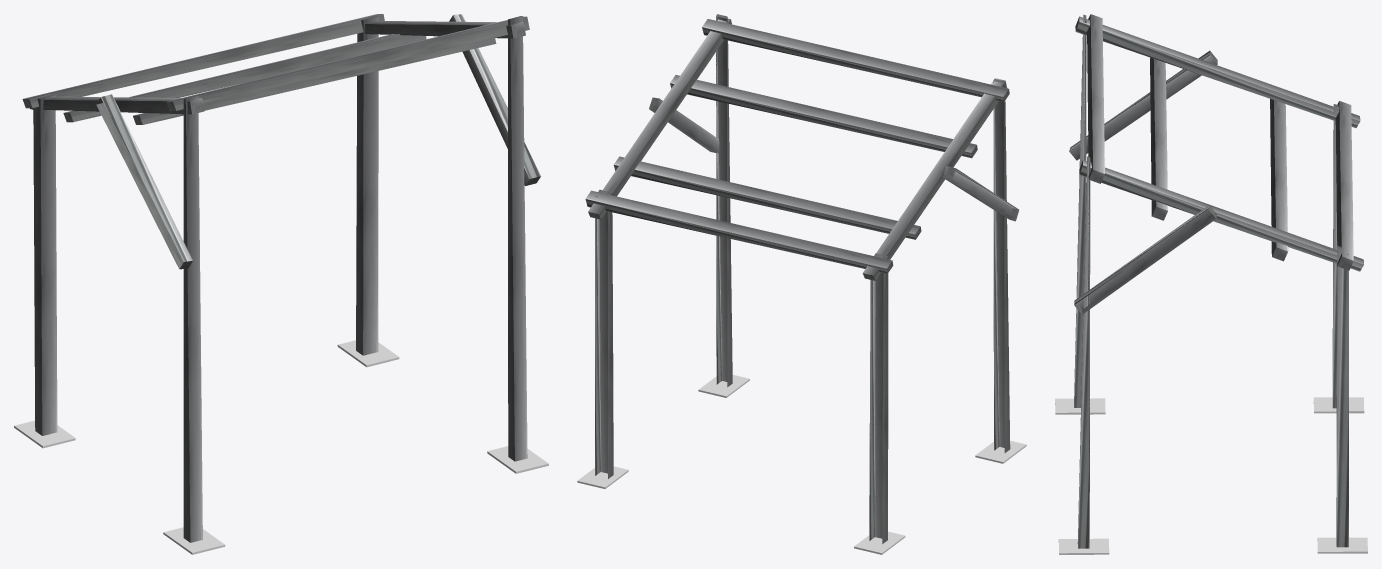
File: six panel  with 4 legs structure.fbx
3 views of the same model, side by side, from view 1: azimuth 30°, elevation 25°; view 2: azimuth 150°, elevation 25°; view 3: azimuth 270°, elevation 25° (orthographic). The views are drawn at different scales.
Parts seen in each view (by area): view 1: Cube.015, Cube.005, Cube.027, Cube.018, Cube.009, Cube.001, Cube.006, Cube.008, Cube.004, Cube.007, Cube.003, Cube.002 (+4 smaller); view 2: Cube.027, Cube.015, Cube.001, Cube.009, Cube.018, Cube.006, Cube.004, Cube.005, Cube.002, Cube.003, Cube.008, Cube.007 (+4 smaller); view 3: Cube.003, Cube.002, Cube.018, Cube.005, Cube.007, Cube.009, Cube.001, Cube.015, Cube.006, Cube.004, Cube.008, Cube.027 (+4 smaller).
Part boxes in pixels (left/top/right/bottom): Cube.015: left=183, top=96, right=202, bottom=542; Cube.005: left=508, top=16, right=527, bottom=461; Cube.027: left=33, top=95, right=57, bottom=435; Cube.018: left=356, top=16, right=378, bottom=355; Cube.009: left=166, top=16, right=529, bottom=110; Cube.001: left=22, top=14, right=384, bottom=108; Cube.006: left=63, top=34, right=426, bottom=122; Cube.008: left=96, top=94, right=192, bottom=269; Cube.004: left=133, top=38, right=496, bottom=124; Cube.007: left=449, top=14, right=540, bottom=185; Cube.003: left=30, top=96, right=204, bottom=114; Cube.002: left=364, top=21, right=525, bottom=38; Cube.027: left=869, top=253, right=888, bottom=543; Cube.015: left=993, top=79, right=1010, bottom=452; Cube.001: left=585, top=190, right=893, bottom=273; Cube.009: left=702, top=19, right=1009, bottom=102; Cube.018: left=595, top=189, right=613, bottom=478; Cube.006: left=613, top=156, right=921, bottom=239; Cube.004: left=670, top=75, right=977, bottom=158; Cube.005: left=716, top=14, right=732, bottom=387; Cube.002: left=588, top=18, right=731, bottom=219; Cube.003: left=862, top=78, right=1006, bottom=280; Cube.008: left=943, top=166, right=1019, bottom=221; Cube.007: left=649, top=97, right=719, bottom=153; Cube.003: left=1075, top=16, right=1360, bottom=127; Cube.002: left=1079, top=160, right=1363, bottom=271; Cube.018: left=1336, top=246, right=1348, bottom=547; Cube.005: left=1077, top=156, right=1090, bottom=548; Cube.007: left=1074, top=205, right=1216, bottom=314; Cube.009: left=1087, top=14, right=1104, bottom=183; Cube.001: left=1335, top=101, right=1353, bottom=270; Cube.015: left=1074, top=14, right=1086, bottom=407; Cube.006: left=1270, top=99, right=1288, bottom=261; Cube.004: left=1150, top=57, right=1167, bottom=220; Cube.008: left=1069, top=50, right=1217, bottom=160; Cube.027: left=1332, top=104, right=1338, bottom=408.
Bounding box in the file's own units: 260 × 301 × 219.
